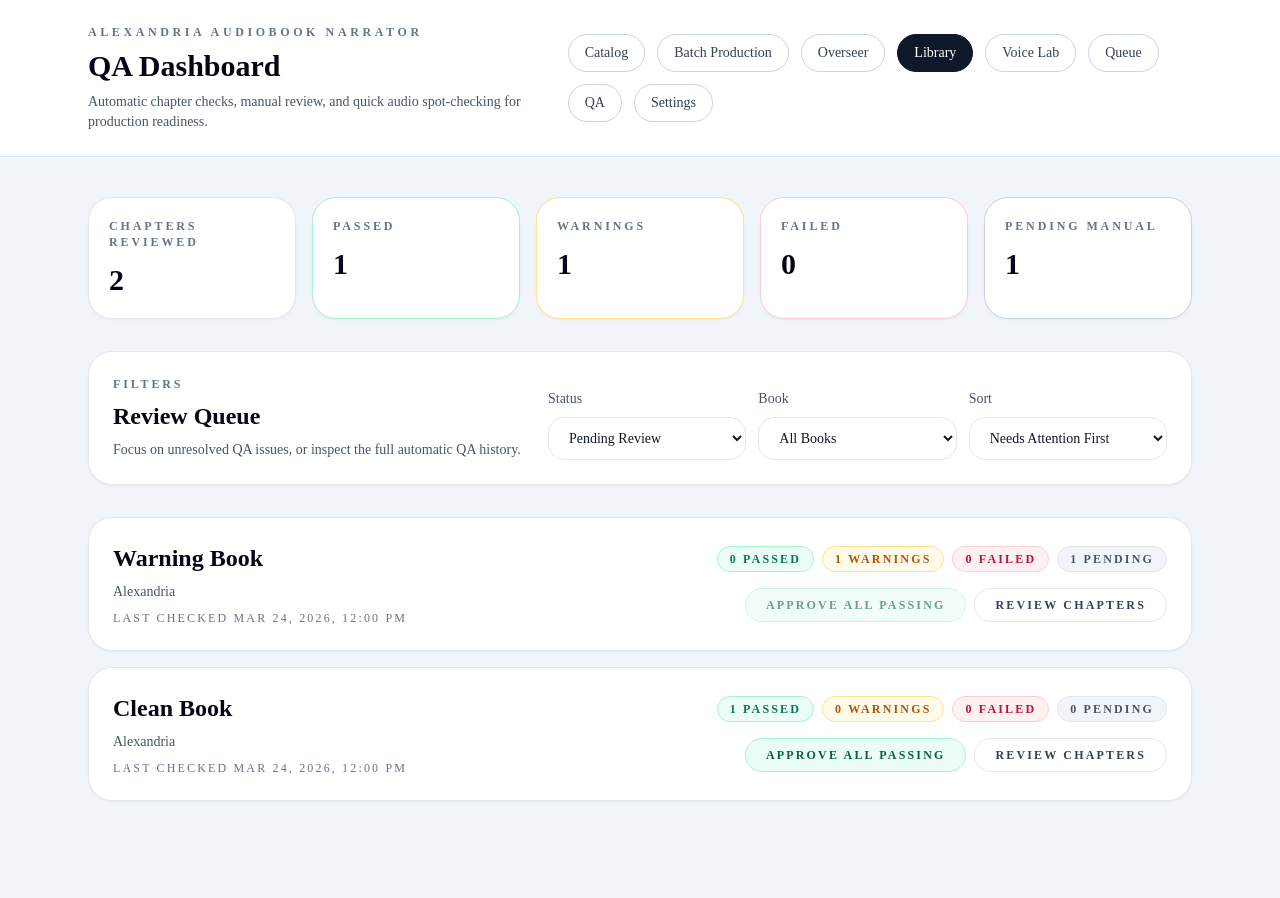
Test: QA dashboard page › renders QA data, filters by pending review, expands chapters, and reveals checks
The image size is (1280, 898).
Select "Pending Review" in the dropdown labelled "Status" at (647, 438), box [548, 417, 746, 460]
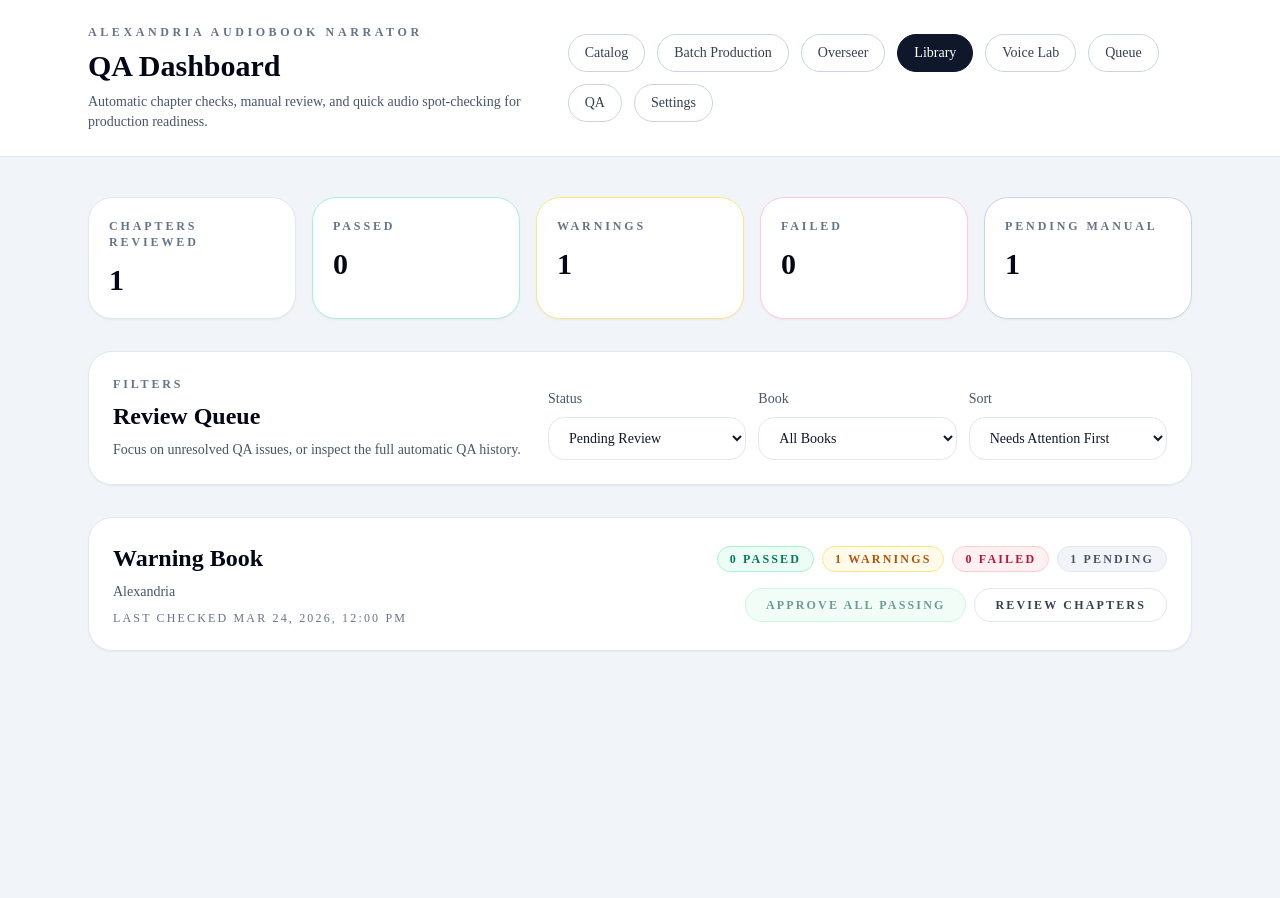
Check: the text "Warning Book" is shown, box [113, 545, 263, 571]
Click the button "Review Chapters" at (1071, 605), box [974, 588, 1167, 622]
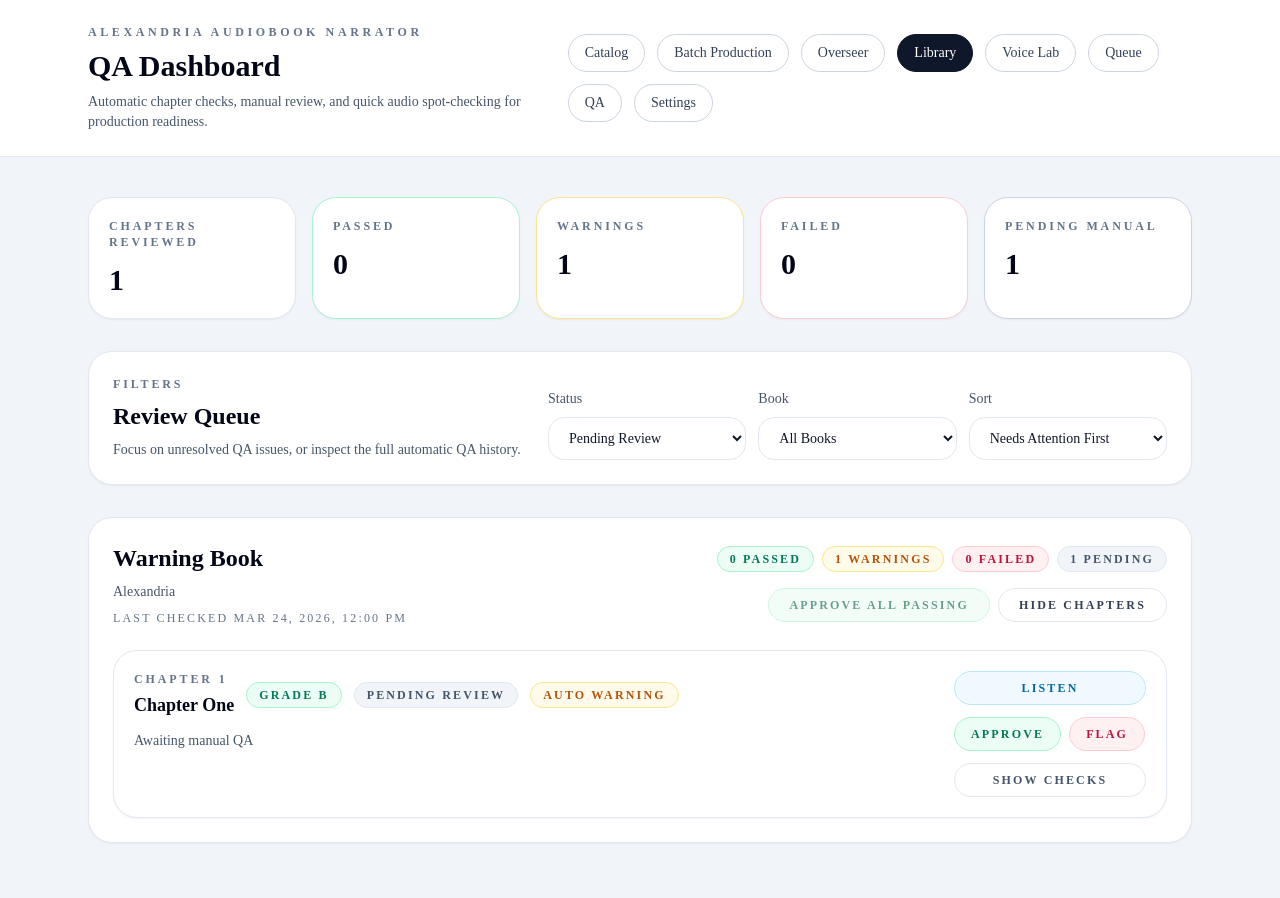
Check: the text "Chapter One" is shown, box [134, 691, 234, 719]
Check: the text "Awaiting manual QA" is shown, box [134, 733, 253, 748]
Check: the text "Grade B" is shown, box [246, 682, 342, 708]
Click the button "Show Checks" at (1050, 780), box [954, 763, 1146, 797]
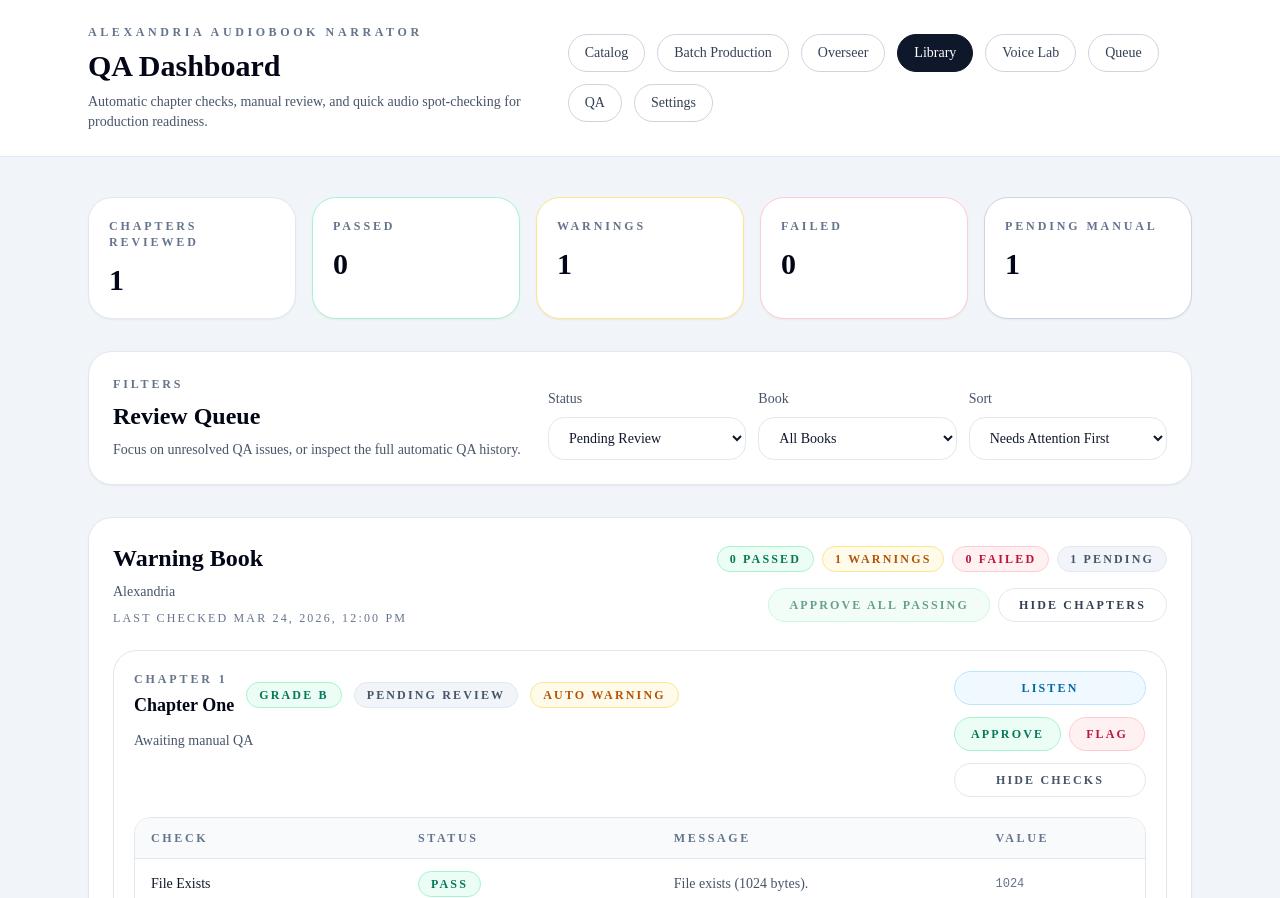
Click the button "Listen" at (1050, 688), box [954, 671, 1146, 705]
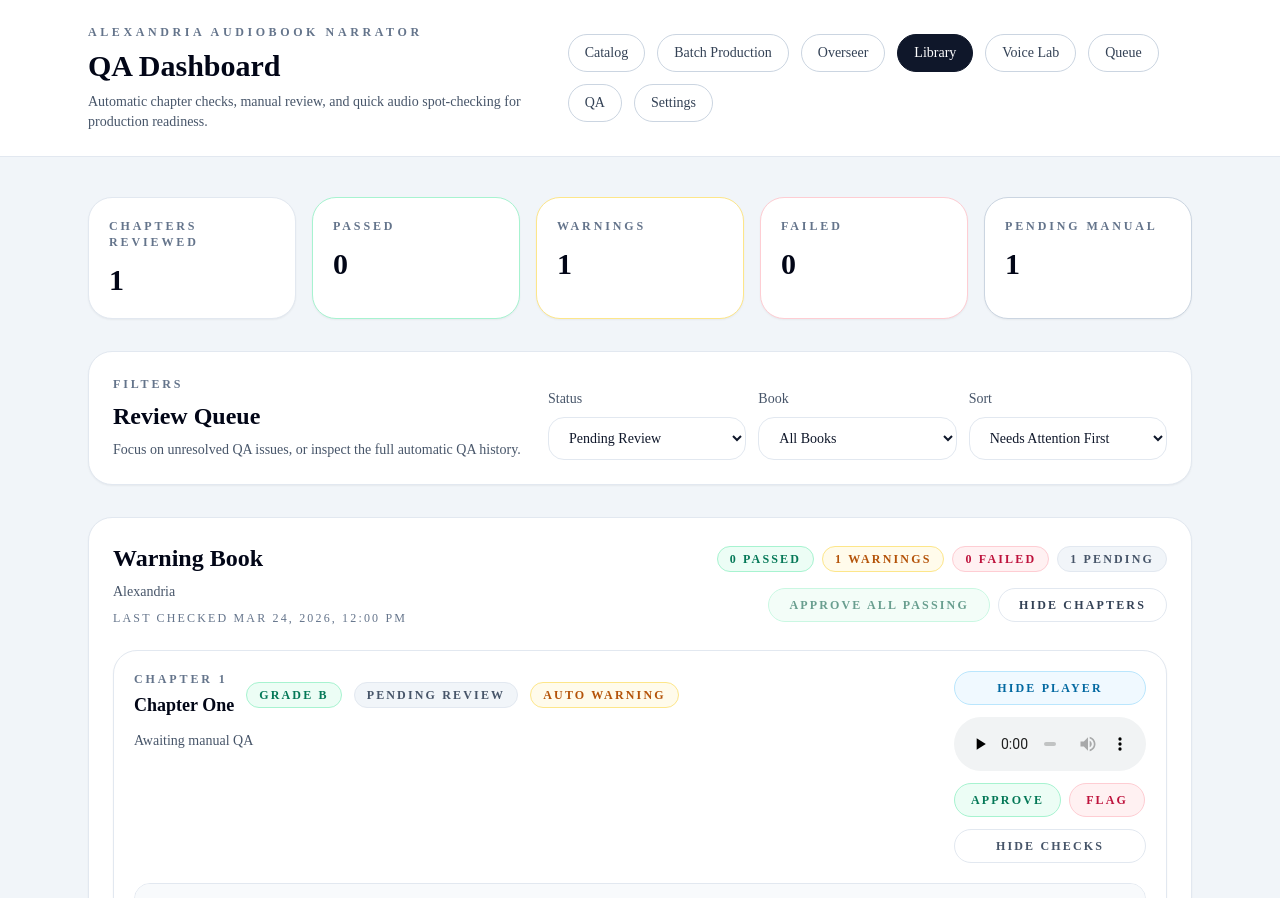
Check: the element named "Audio preview for Chapter One" is shown, box [954, 717, 1146, 771]
